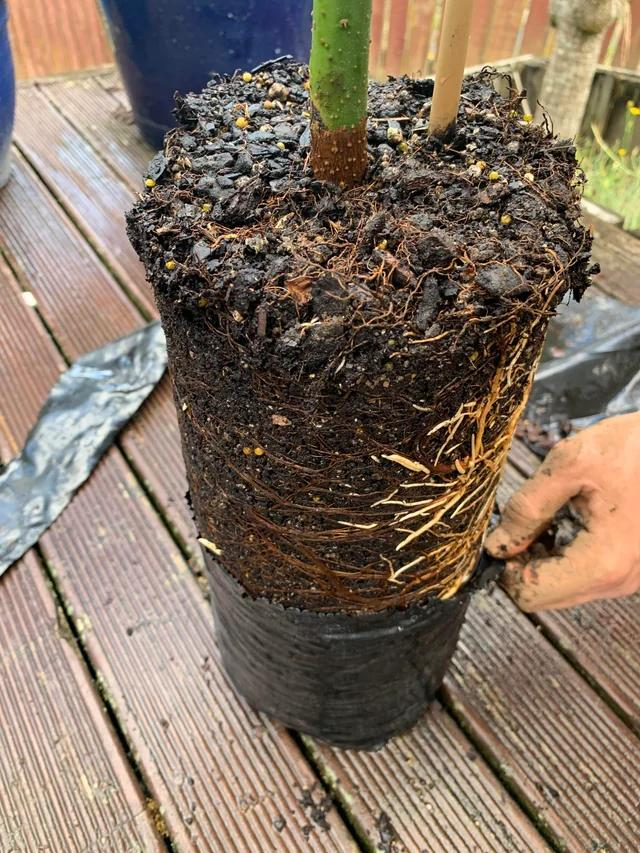root_rot: (131, 0, 587, 727)
